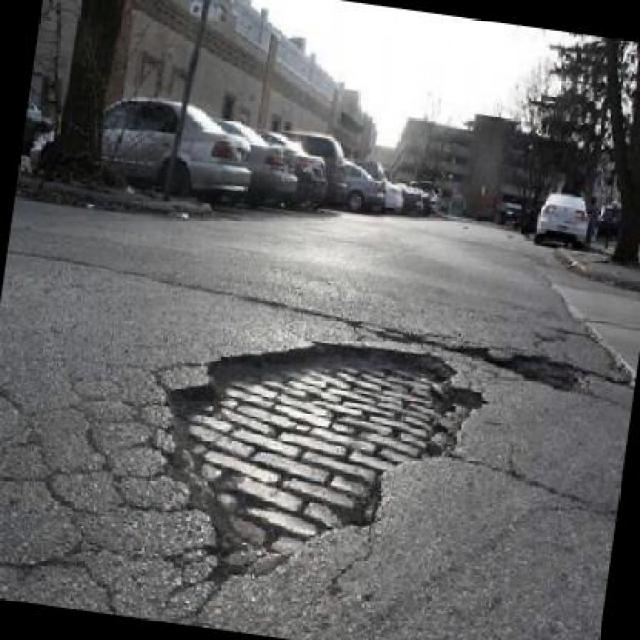pothole1: (128, 309, 487, 614), (491, 345, 592, 397)
